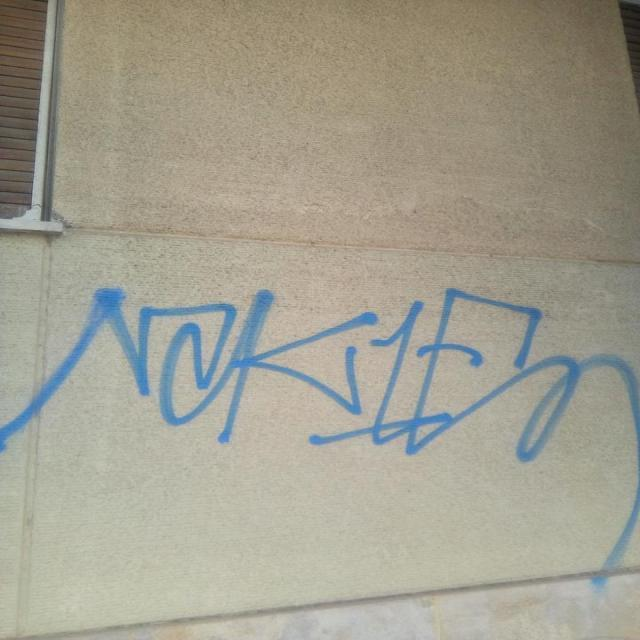nonspitting: (3, 281, 640, 585)
